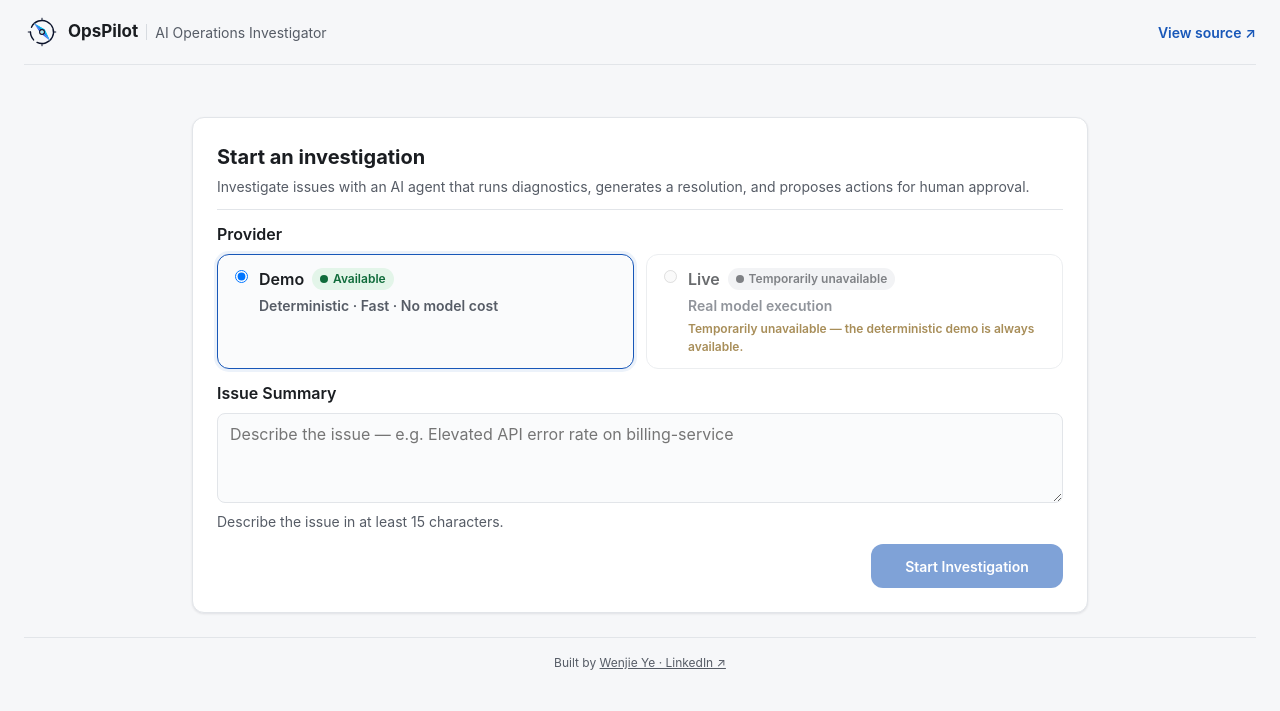
Scenario: Investigation progress timeline (#34/#35) › shows the approval stage as Failed, distinct from Pending, when the fetch genuinely fails
In the text box labelled "Issue Summary": (640, 458) x1=217 y1=413 x2=1063 y2=503, type "Elevated error rate"
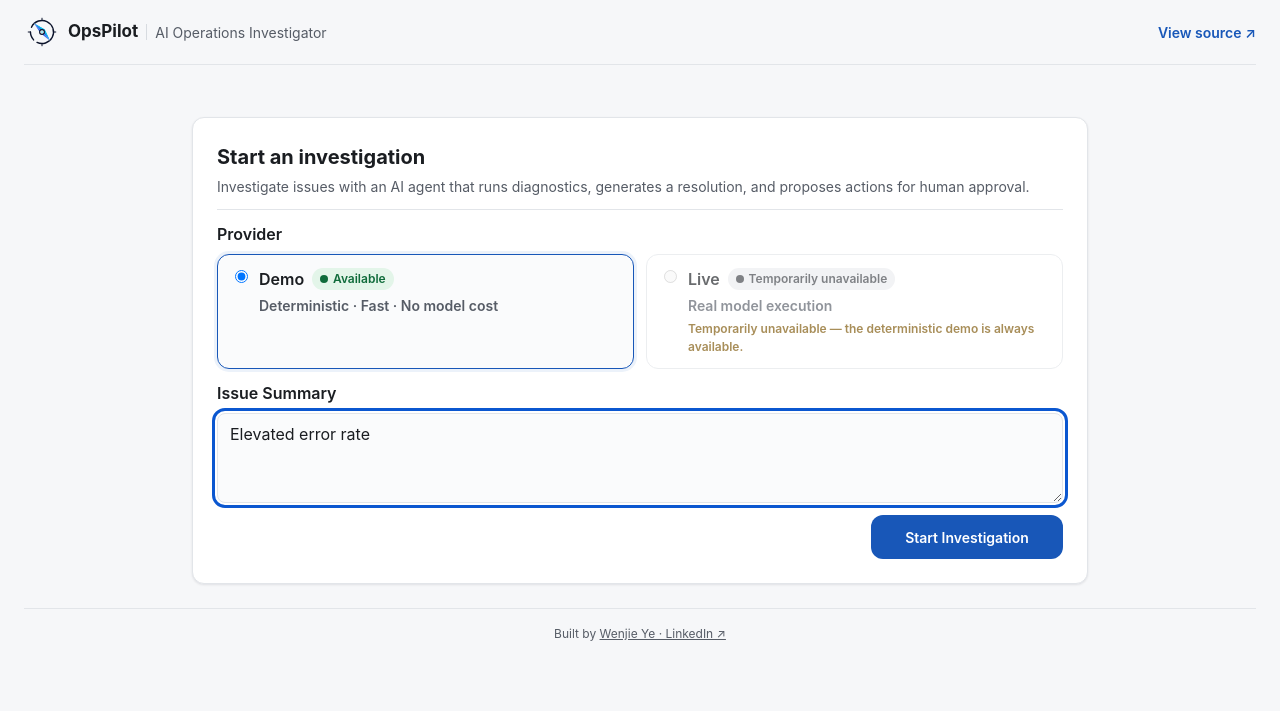
Click the button "Start Investigation": click(967, 537) x1=871 y1=515 x2=1063 y2=559
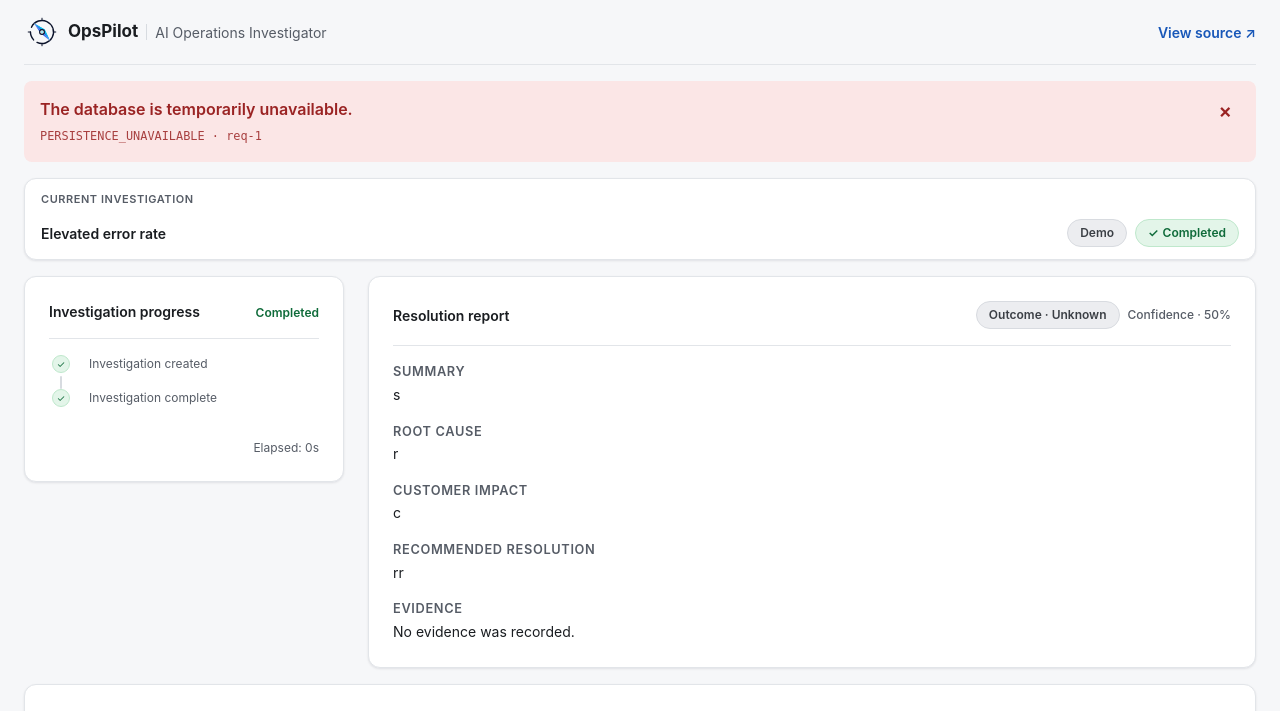
Now the text "The database is temporarily unavailable." is shown, box x1=40 y1=97 x2=353 y2=121
Now the heading "Resolution report" is shown, box x1=393 y1=305 x2=510 y2=326
